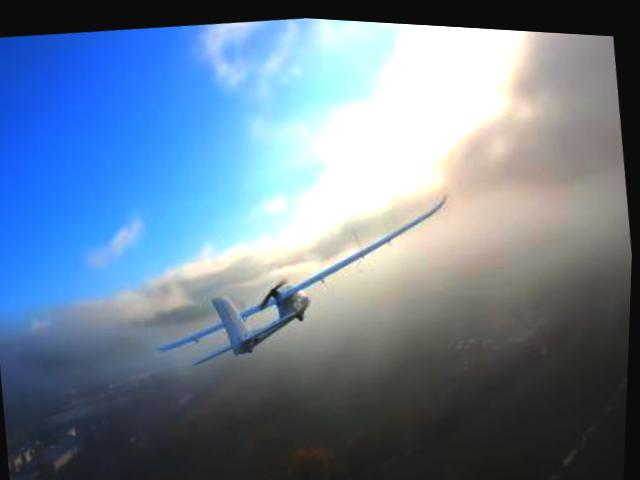uav: (134, 163, 477, 400)
